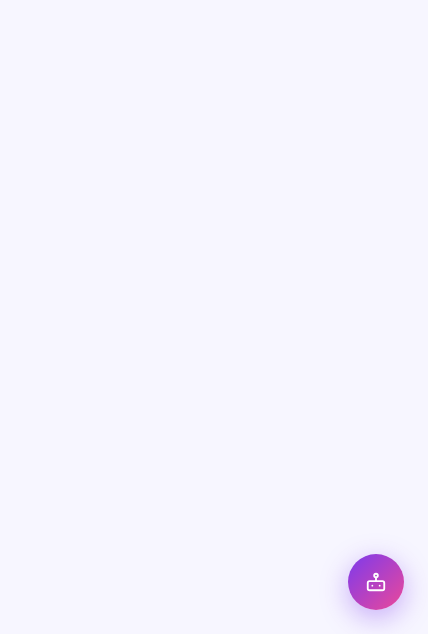
Scenario: sends the CLIENT token (never the freelancer token) to /chat/client-message
Step 1. Click the button with class "cw-fab" → (376, 582), box [348,554,404,610]
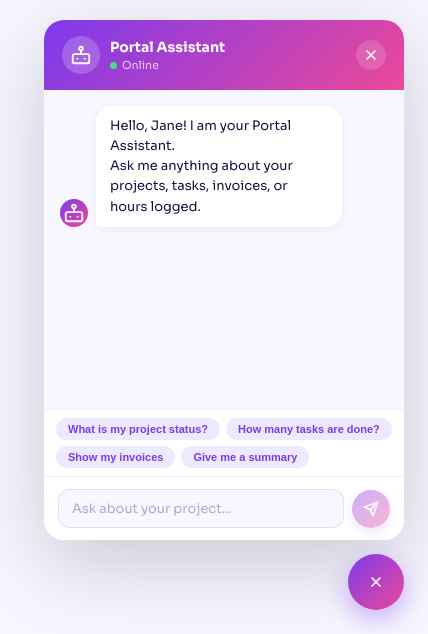
Step 2. Type "How are my projects?" into the text box with placeholder "Ask about your project..." → (201, 508), box [58,489,344,528]
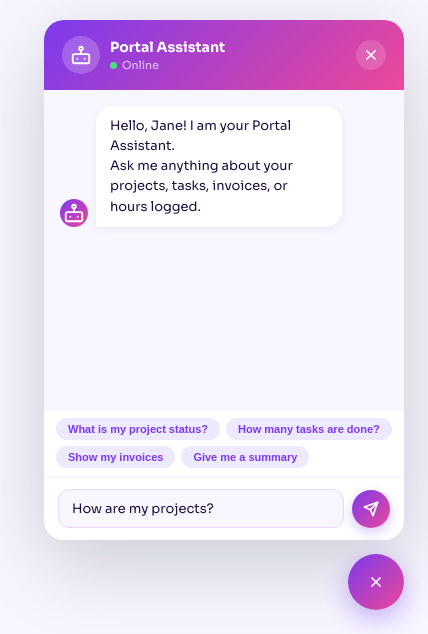
Step 3. Click the button with class "cw-send-btn" → (371, 509), box [352,490,390,528]
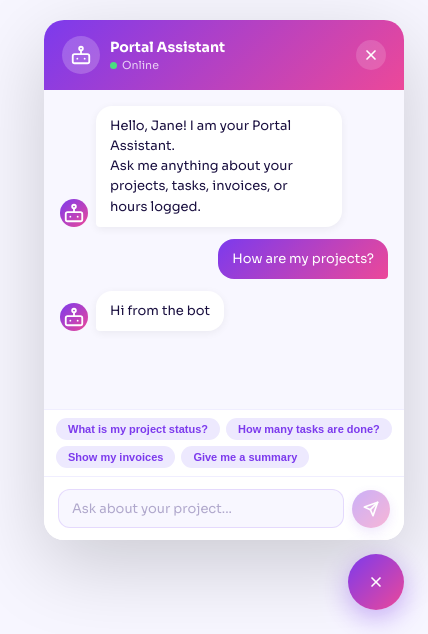
Expected: the text "Hi from the bot" is shown, [110,301,210,321]
